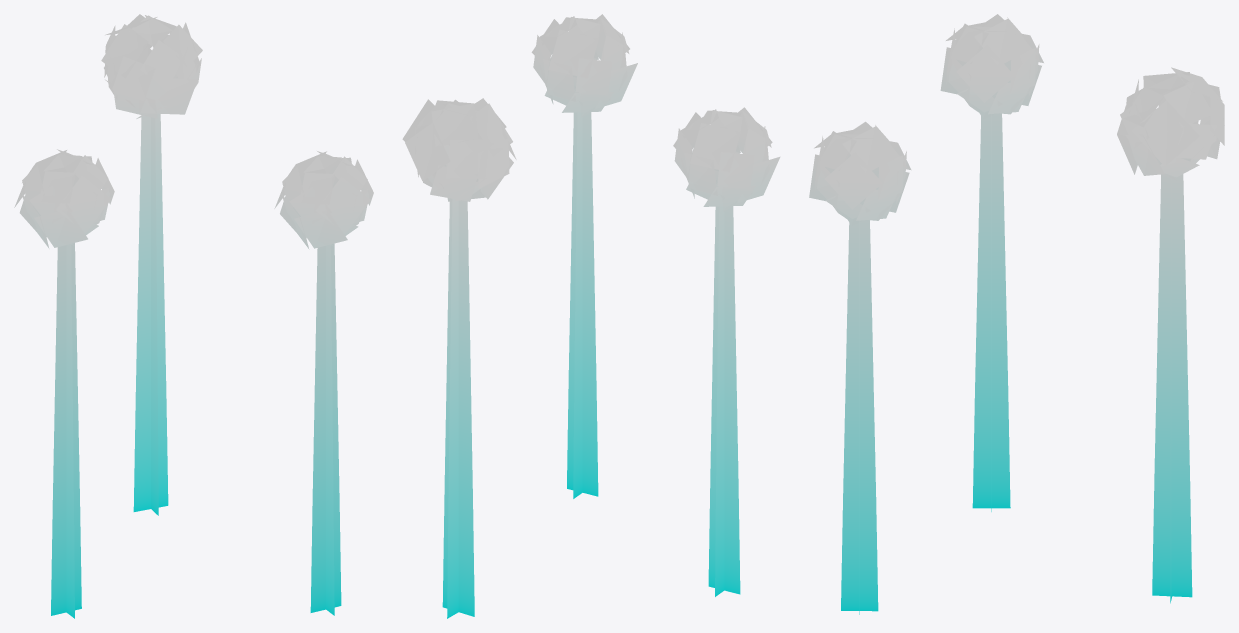
Rendered from Flower_B1_0.8m_Cluster_01.fbx.
3 views of the same model, side by side, from view 1: azimuth 30°, elevation 25°; view 2: azimuth 150°, elevation 25°; view 3: azimuth 270°, elevation 25° (orthographic). The views are drawn at different scales.
Parts seen in each view (by area): view 1: Flower_B1_0.8m_Cluster_01_LOD0; view 2: Flower_B1_0.8m_Cluster_01_LOD0; view 3: Flower_B1_0.8m_Cluster_01_LOD0.
Boxes of the visible parts, <box> form: Flower_B1_0.8m_Cluster_01_LOD0: <box>14,14,373,618</box>; Flower_B1_0.8m_Cluster_01_LOD0: <box>402,14,780,618</box>; Flower_B1_0.8m_Cluster_01_LOD0: <box>809,14,1224,614</box>.
Size of what is drawn, in the model's own units: 0.4922 by 0.8288 by 0.5985.
